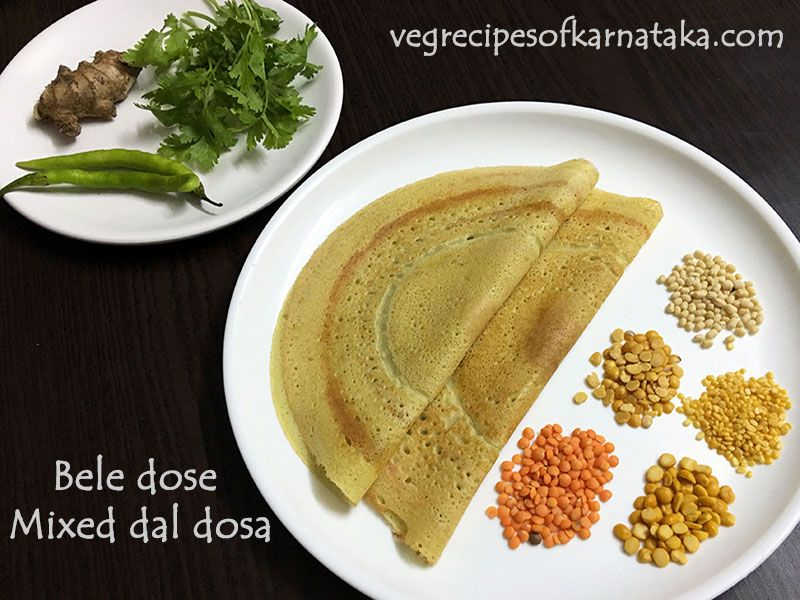dosa: (268, 142, 670, 577)
